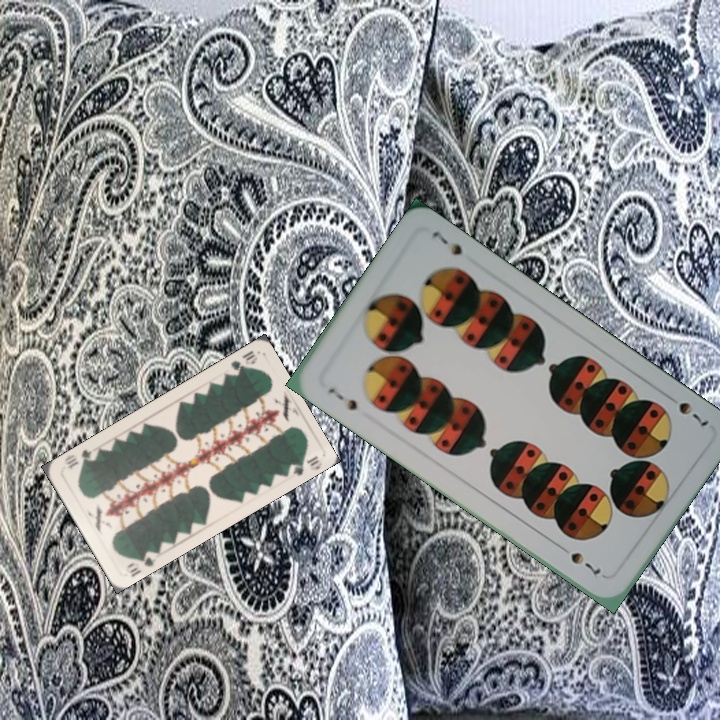G10: (121, 546, 159, 579), (227, 346, 260, 375)
S7: (674, 397, 712, 429), (324, 383, 361, 413)
